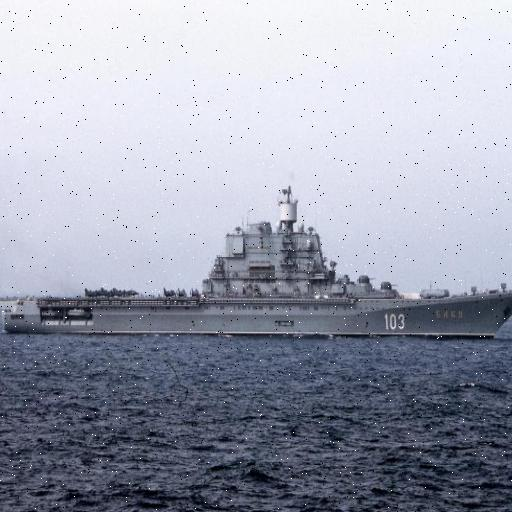Portanaves: (1, 185, 512, 344)
